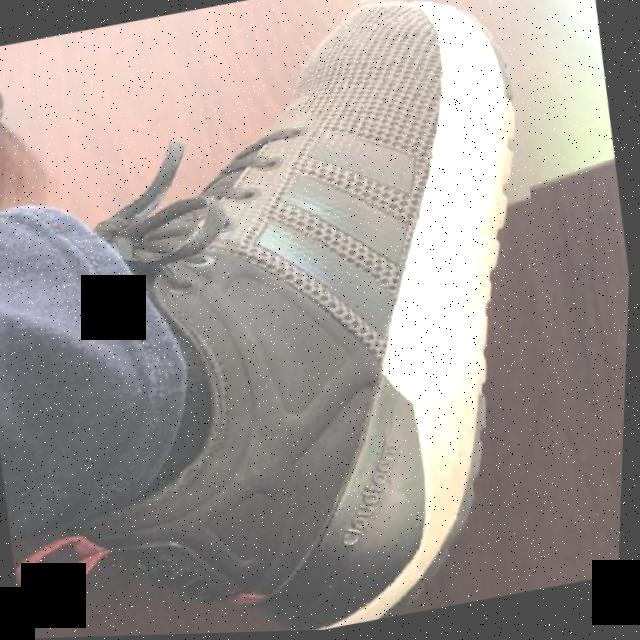shoe: (76, 0, 600, 638)
